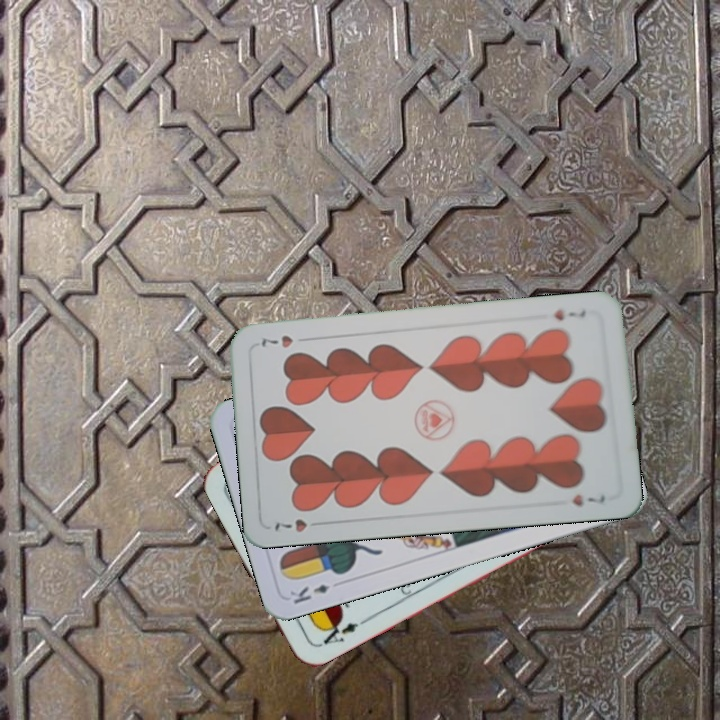EA: (313, 615, 361, 650)
EK: (285, 580, 332, 607)
H7: (270, 514, 310, 535), (549, 305, 589, 323)
